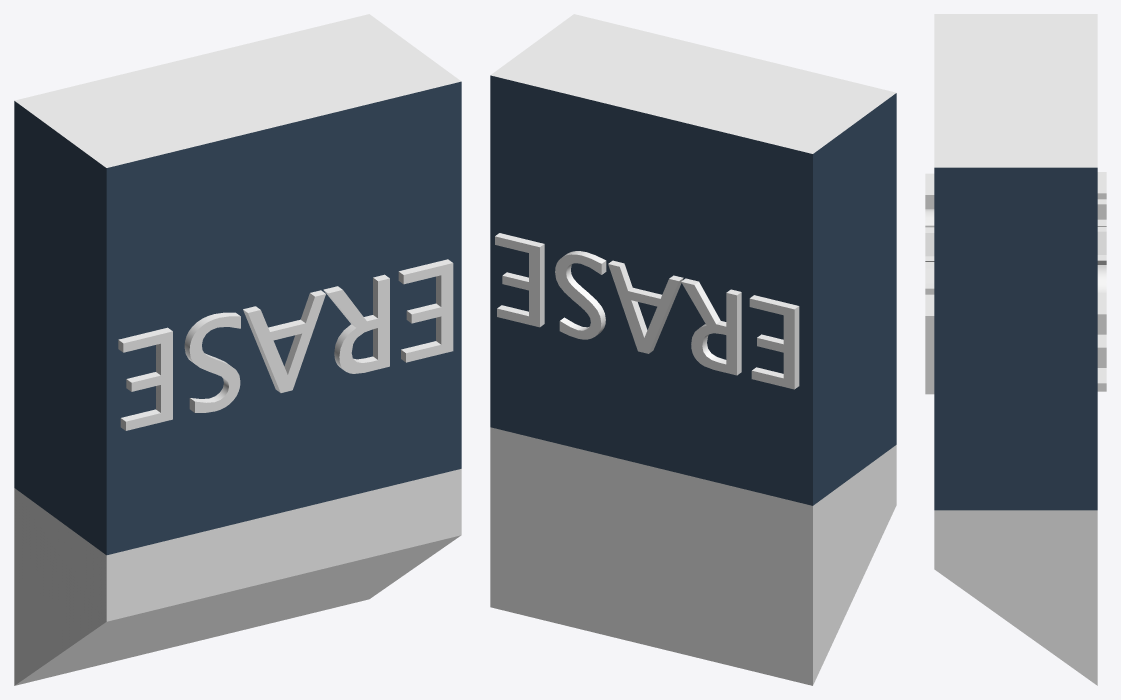
File: Eraser.fbx
3 renders of one model, left to right at view 1: azimuth 30°, elevation 25°; view 2: azimuth 150°, elevation 25°; view 3: azimuth 270°, elevation 25°, orthographic. The views are drawn at different scales.
Parts seen in each view (by area): view 1: Group1, ERASE1; view 2: Group1, ERASE2; view 3: Group1, ERASE1, ERASE2.
Boxes of the visible parts, x1=… form: Group1: x1=14, y1=14, x2=461, y2=685; ERASE1: x1=118, y1=259, x2=453, y2=430; Group1: x1=490, y1=14, x2=896, y2=685; ERASE2: x1=495, y1=233, x2=799, y2=389; Group1: x1=934, y1=14, x2=1097, y2=685; ERASE1: x1=925, y1=173, x2=934, y2=394; ERASE2: x1=1097, y1=172, x2=1106, y2=391.
Bounding box in the file's own units: 0.724 × 1.14 × 0.362.
